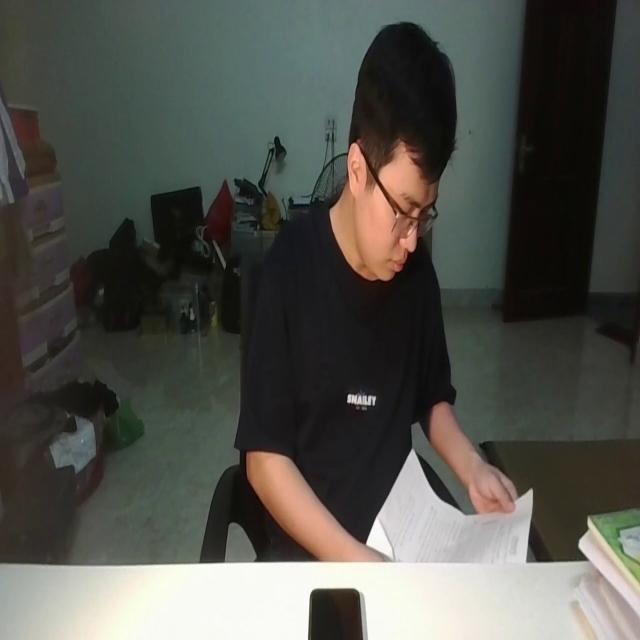book: (367, 447, 534, 559)
phone: (308, 584, 364, 640)
student: (241, 24, 525, 574)
